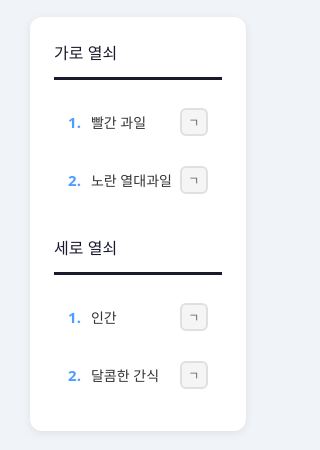
HintPanel › 상호작용 › 여러 초성을 동시에 표시할 수 있음
# 가로 첫 번째와 세로 첫 번째 초성 버튼 클릭
Click the button titled "초성 힌트" next to "빨간 과일". click: [194, 122]
box: [180,108,208,136]
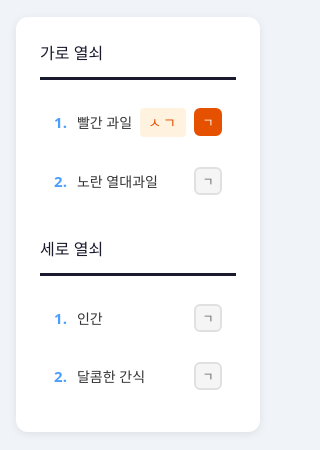
Click the button titled "초성 힌트" next to "인간". click: [208, 318]
box: [194,304,222,332]
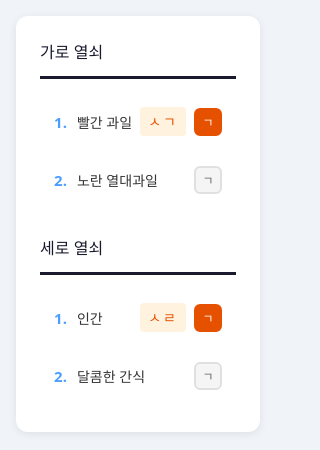
Check: the text "ㅅㄱ" is shown, box [140,107,186,136]
Check: the text "ㅅㄹ" is shown, box [140,303,186,332]
